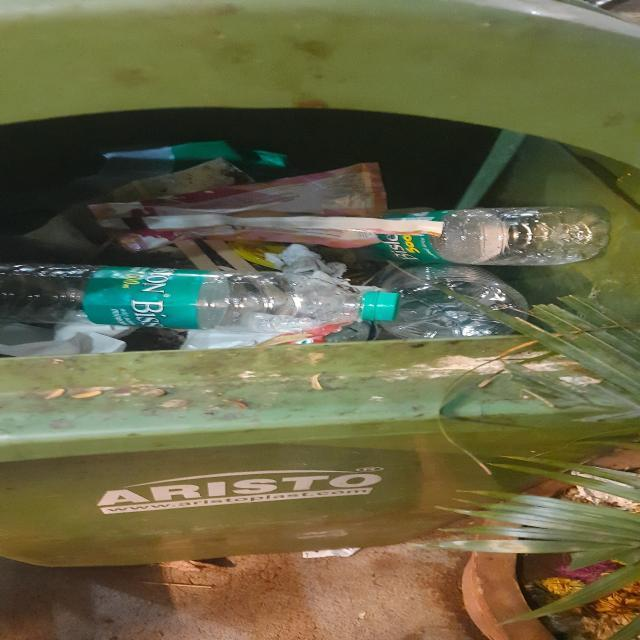Garbage: (0, 103, 640, 358)
Plastic_bottle: (0, 261, 399, 334), (349, 205, 609, 266), (379, 262, 531, 340)
Plastic_wraper: (89, 162, 444, 250), (106, 158, 254, 202), (181, 322, 349, 350), (227, 240, 290, 269)
